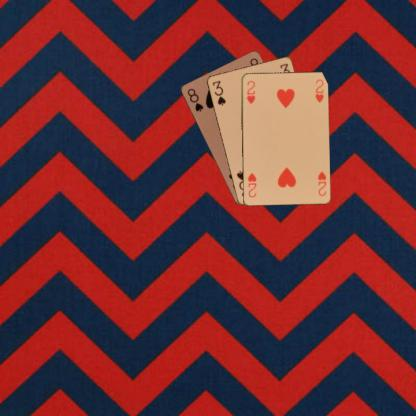2h: (315, 169, 327, 197), (244, 78, 256, 105)
3s: (209, 78, 227, 107)
8s: (184, 86, 204, 112)
